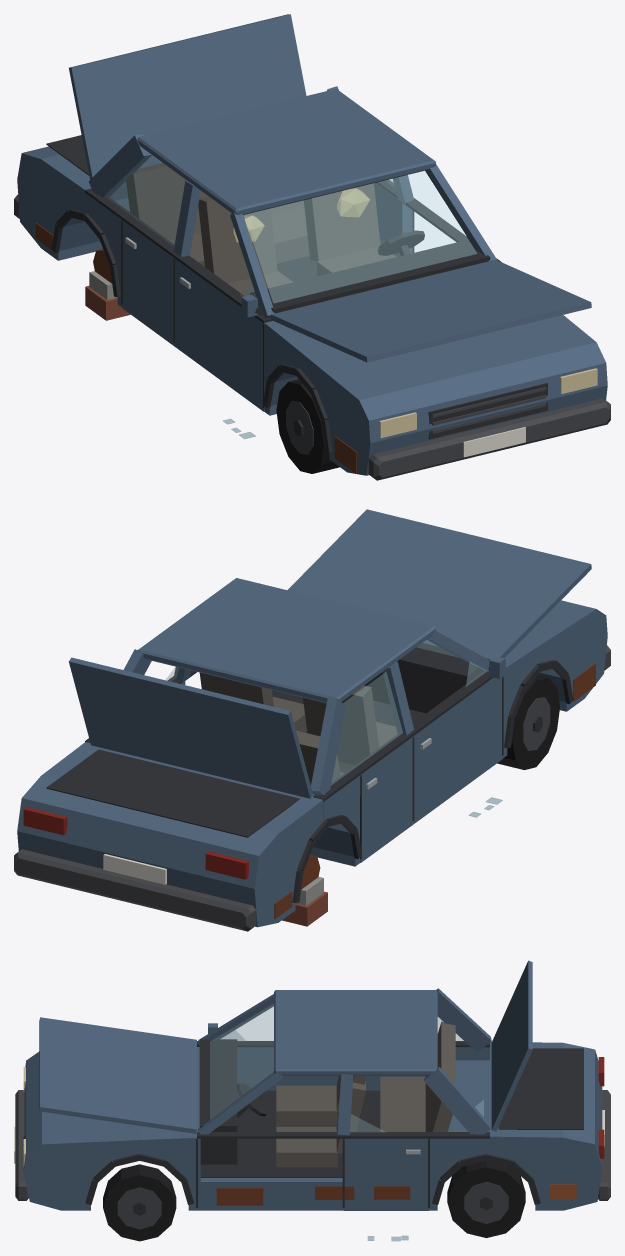
File: SM_Borgo_Car_Wreck.glb
The picture shows the model from 3 angles, top to bottom: view 1: azimuth 30°, elevation 25°; view 2: azimuth 150°, elevation 25°; view 3: azimuth 270°, elevation 25°; orthographic projection. The views are drawn at different scales.
Parts seen in each view (by area): view 1: SM_Borgo_Car_Wreck; view 2: SM_Borgo_Car_Wreck; view 3: SM_Borgo_Car_Wreck.
Boxes of the visible parts, x1,y1,x2,y2 form: SM_Borgo_Car_Wreck: (14, 14, 610, 480); SM_Borgo_Car_Wreck: (14, 509, 610, 931); SM_Borgo_Car_Wreck: (14, 960, 610, 1241).
Bounding box in the file's own units: 2.01 × 1.72 × 4.89.
Materials: 2 (2 with a texture image).
